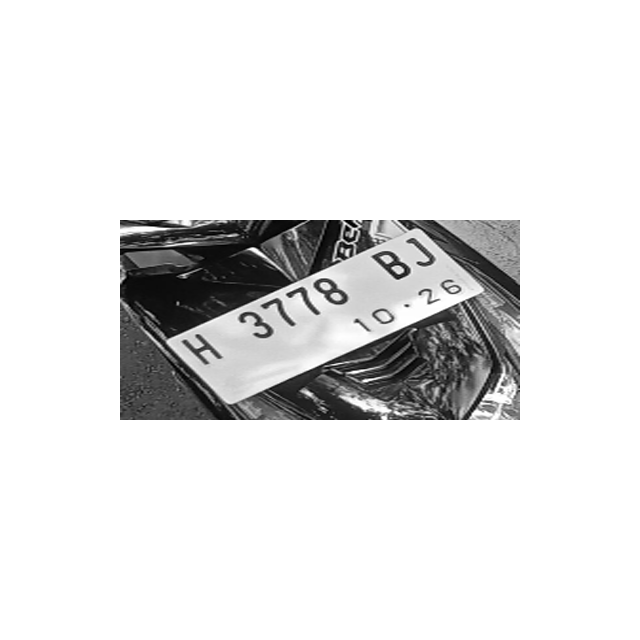contain: (397, 230, 445, 270), (178, 327, 224, 365), (370, 247, 414, 283), (236, 306, 276, 343), (262, 297, 302, 333), (286, 284, 324, 321), (314, 276, 355, 309)
